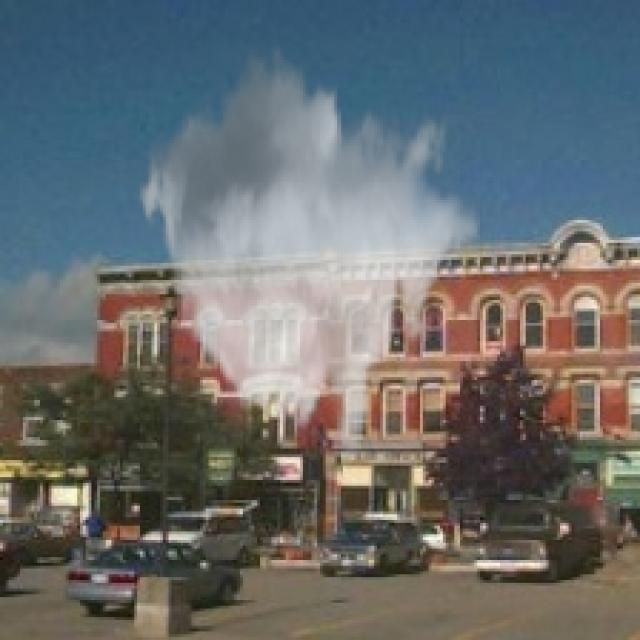smoke: (137, 40, 483, 460)
